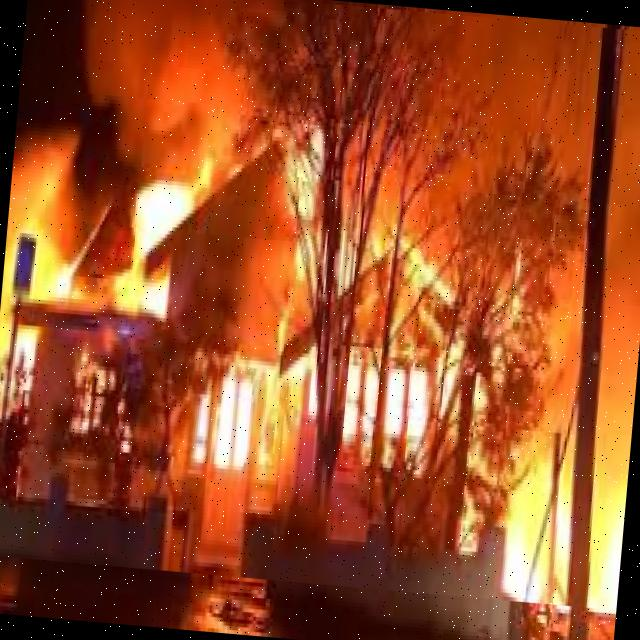fire: (0, 0, 640, 613)
